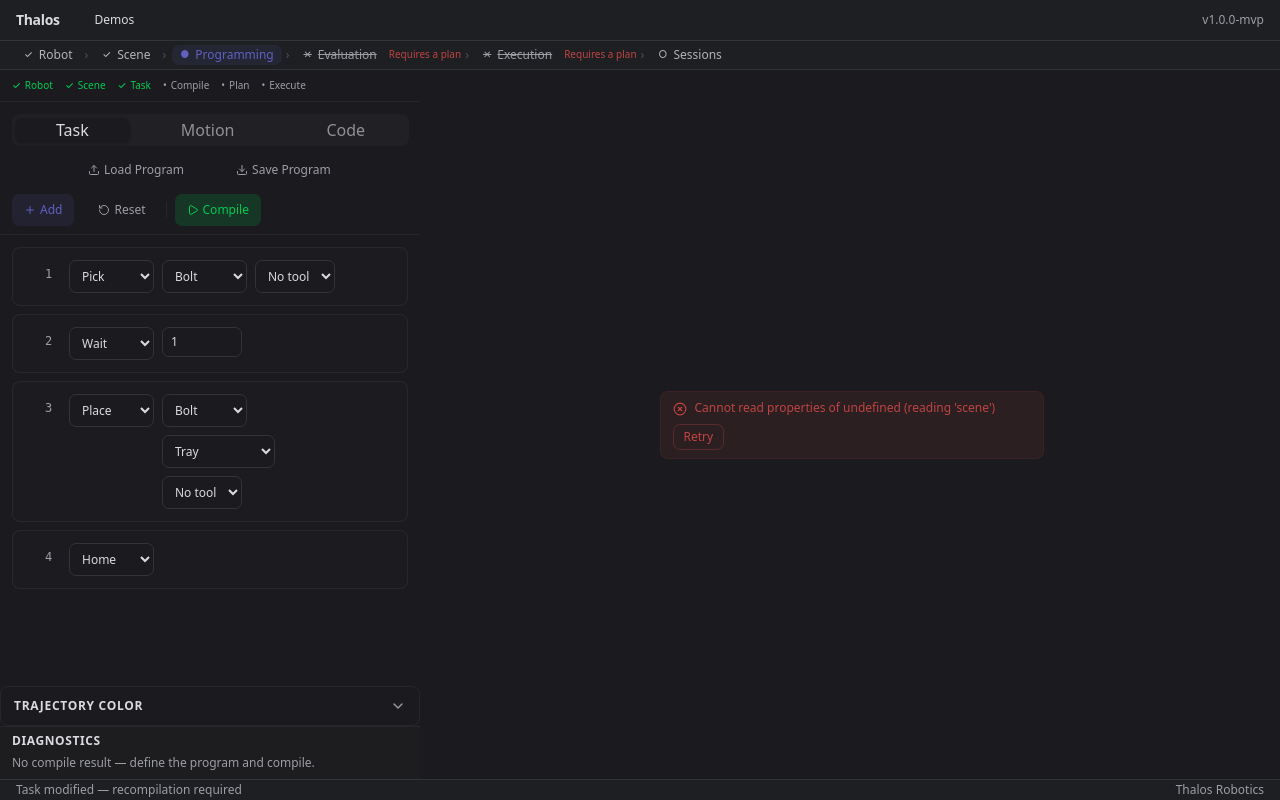
Test: Task compile previews the plan — trajectory + analysis (hotfix unify-programming) › keeps the compile result when the plan/analysis preview fails (non-blocking)
The width and height of the screenshot is (1280, 800).
Click the button "Compile".
click(218, 210)  # box [174,194,261,226]
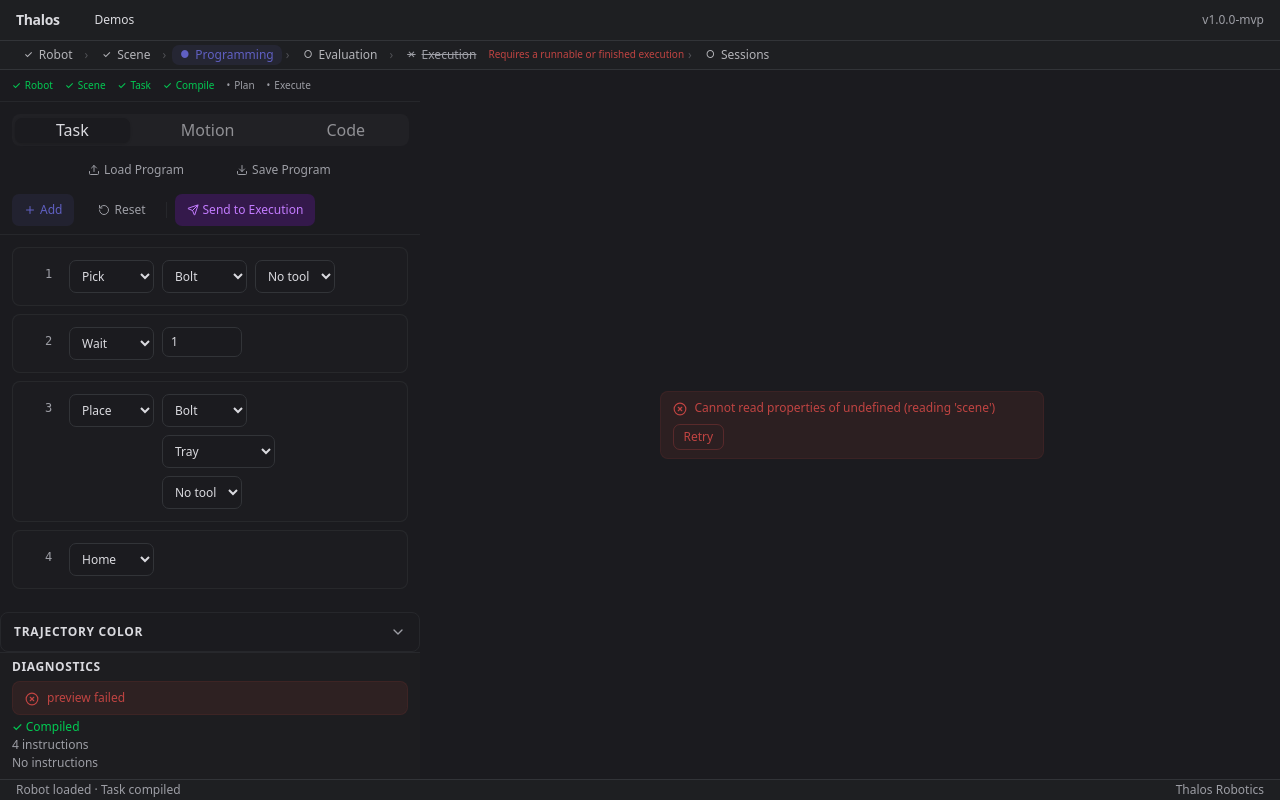
Result: the text "preview failed" is shown at [47,690,125,706]
